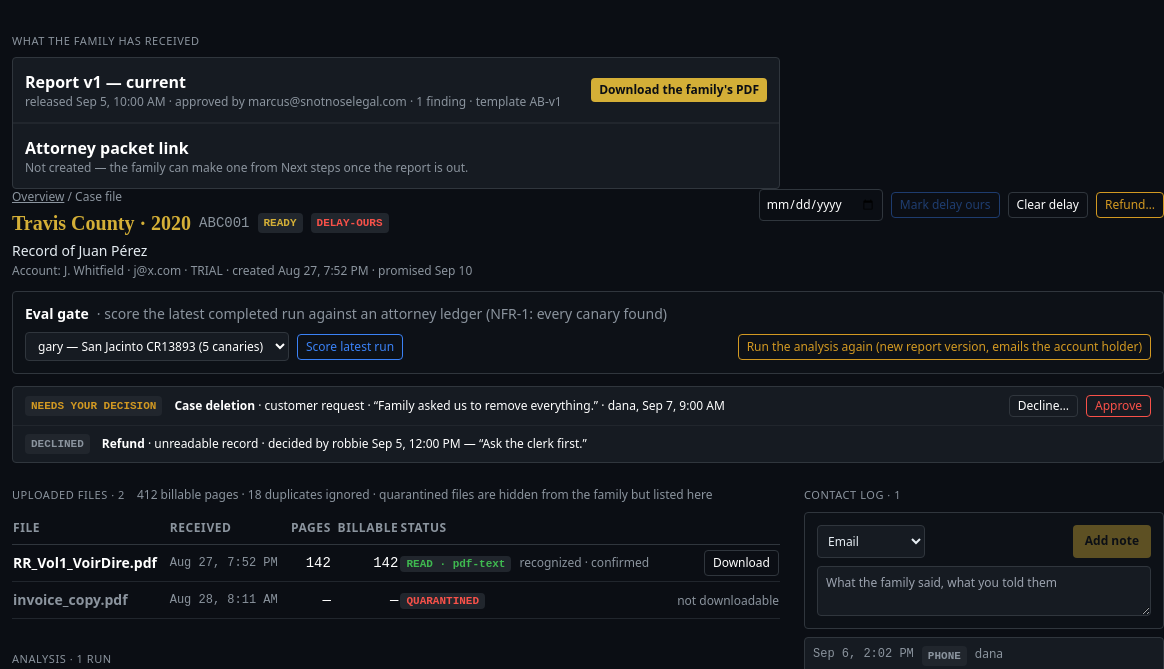
Test case: eval gate from the console (2026-09-27) › ADMIN scores the latest run against a ledger and can re-run a finished case; SUPPORT sees neither
The image size is (1164, 669).
(page scrolled)
Click the button with test id "eval-score".
click(350, 346)  # box [297,334,403,360]
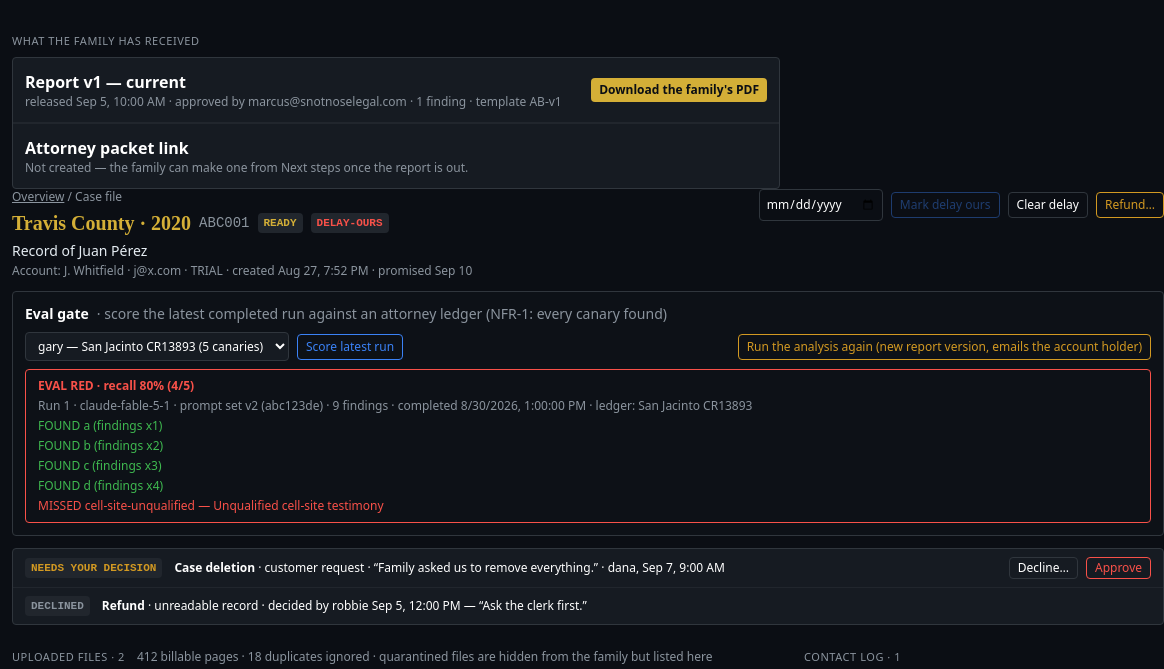
Check: the element with test id "eval-result" shows "EVAL RED · recall 80% (4/5)", box [25,369,1151,523]
Check: the element with test id "eval-result" shows "Run 1 · claude-fable-5-1 · prompt set v2 (abc123de) · 9 findings", box [25,369,1151,523]
Check: the element with test id "eval-result" shows "MISSED cell-site-unqualified — Unqualified cell-site testimony", box [25,369,1151,523]
Click the button with test id "eval-reanalyze".
click(944, 346)  # box [738,334,1151,360]
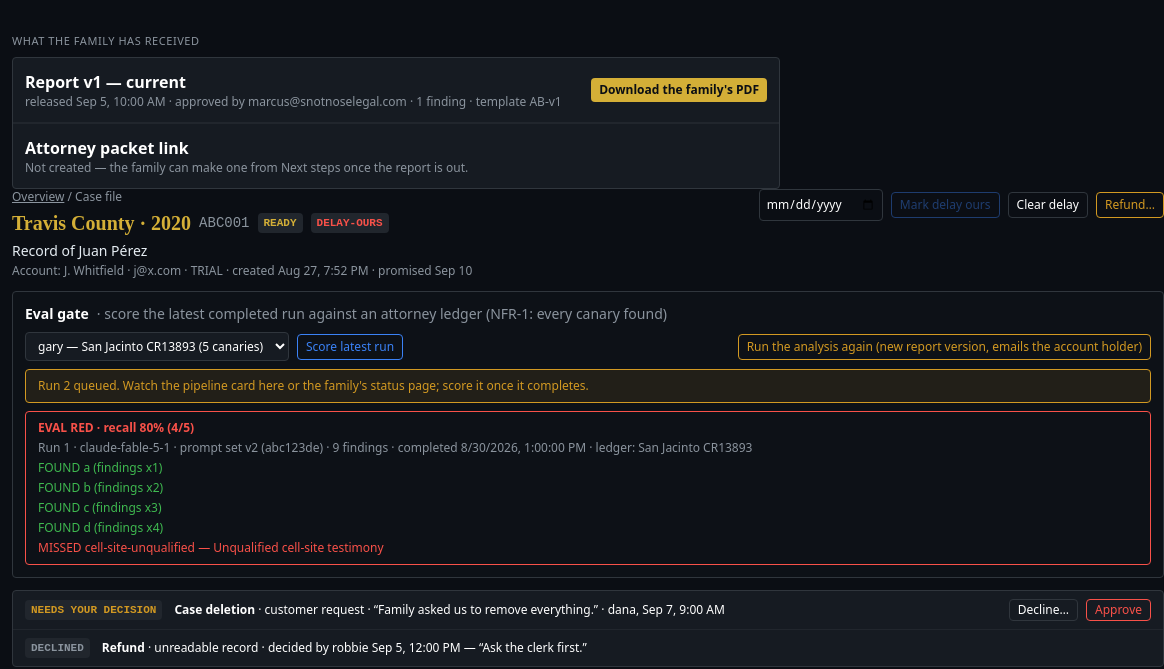
Check: the message with test id "eval-notice" shows "Run 2 queued", box [38,377,589,394]
